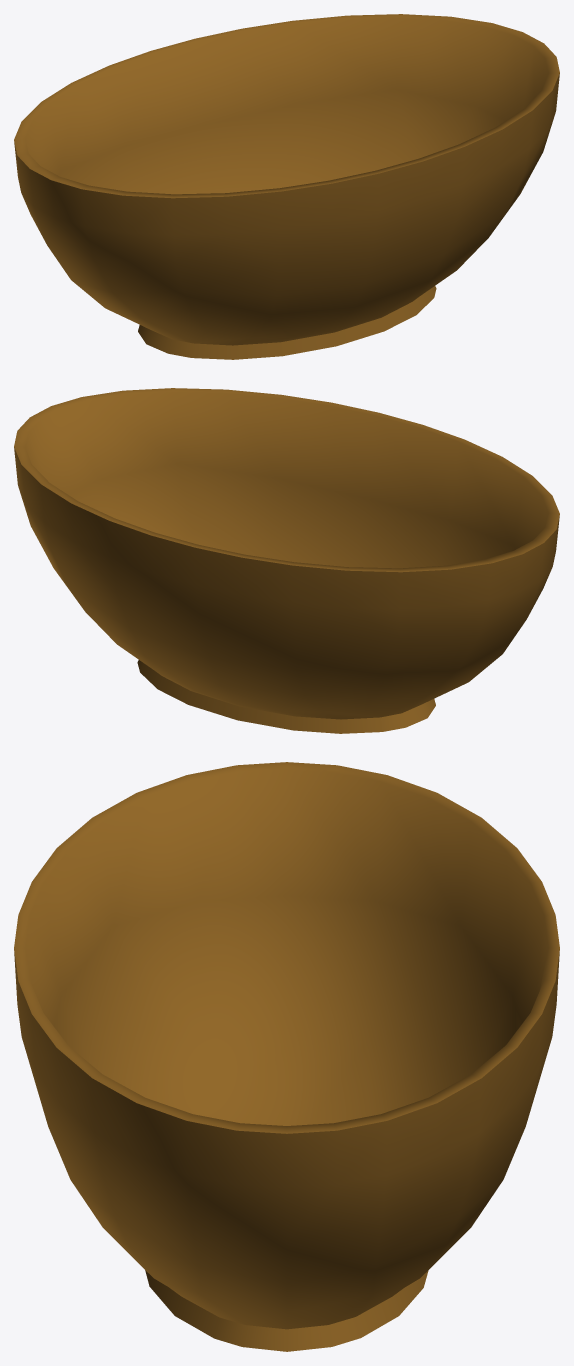
The model's file is 1_OvalPot.fbx.
The picture shows the model from 3 angles, top to bottom: view 1: azimuth 30°, elevation 25°; view 2: azimuth 150°, elevation 25°; view 3: azimuth 270°, elevation 25°; orthographic projection. The views are drawn at different scales.
Parts seen in each view (by area): view 1: EmptyPotPrefab; view 2: EmptyPotPrefab; view 3: EmptyPotPrefab.
Boxes of the visible parts, x1=… form: EmptyPotPrefab: x1=14, y1=14, x2=559, y2=359; EmptyPotPrefab: x1=14, y1=388, x2=559, y2=733; EmptyPotPrefab: x1=14, y1=762, x2=559, y2=1351.
Bounding box in the file's own units: 46.83 × 17.73 × 29.06.
